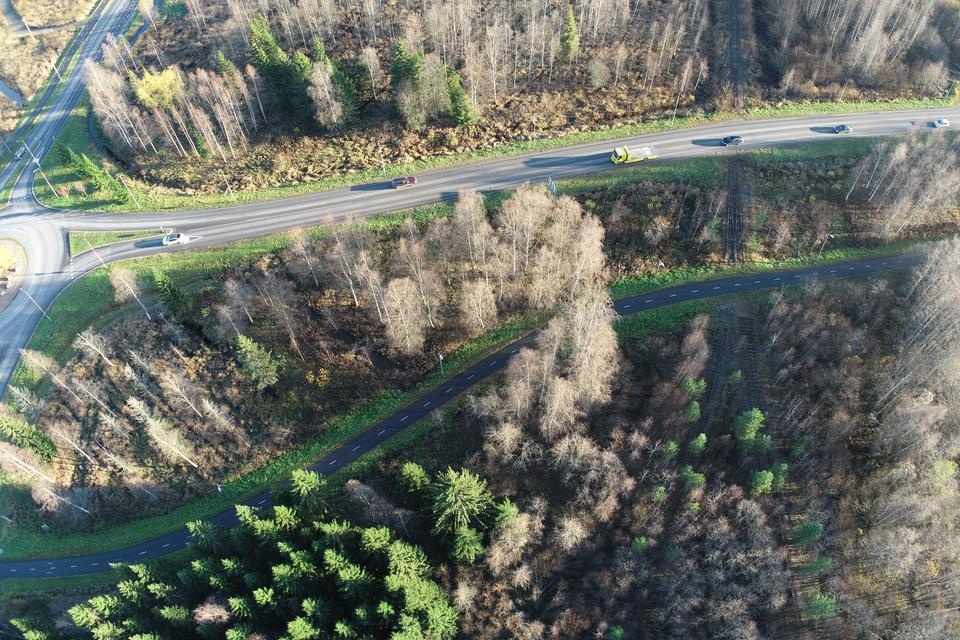roundabout: (0, 162, 91, 379)
